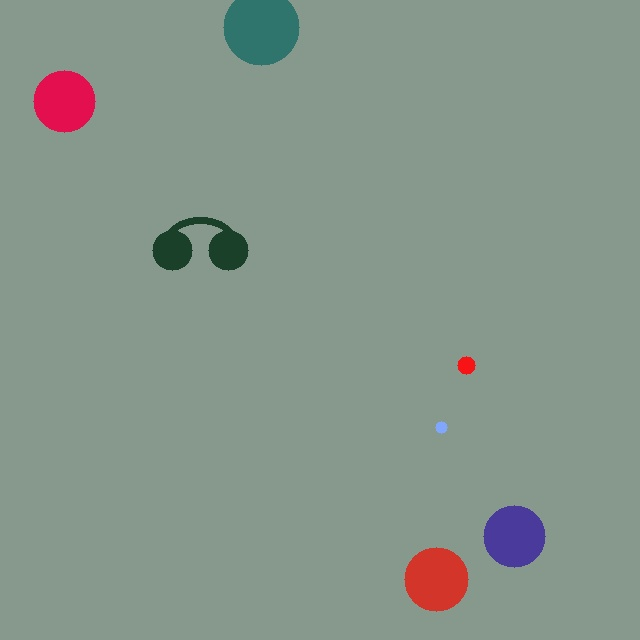over_ear: (148, 208, 252, 274)
